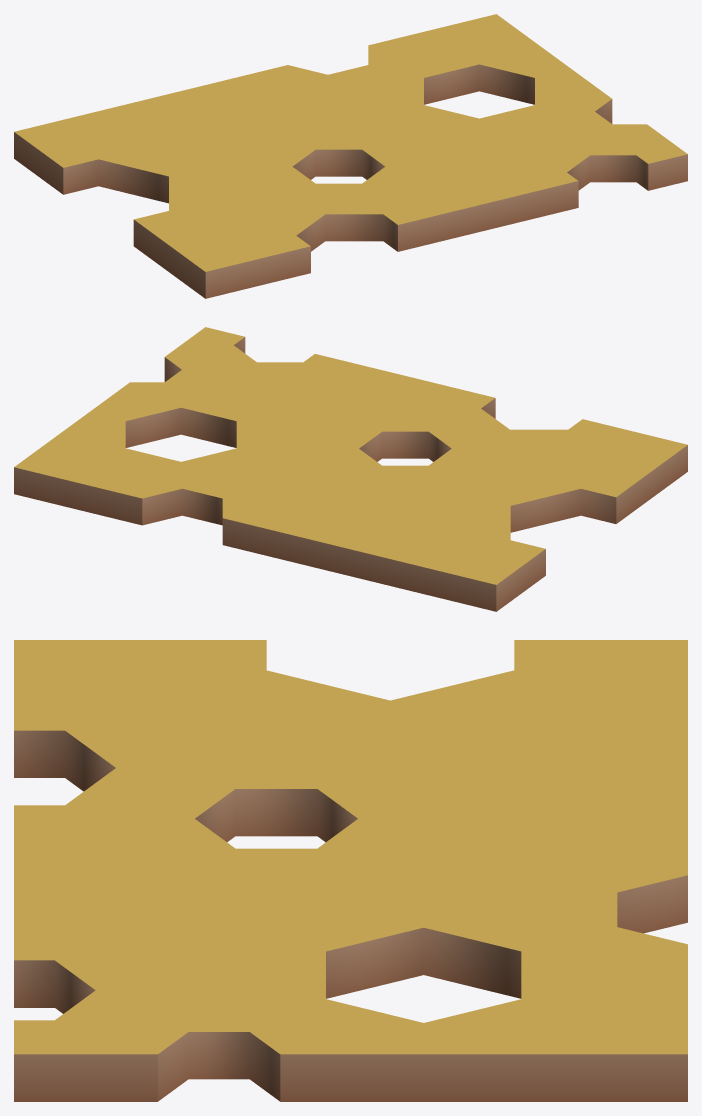
The model's file is cheese-cut.glb.
The picture shows the model from 3 angles, top to bottom: view 1: azimuth 30°, elevation 25°; view 2: azimuth 150°, elevation 25°; view 3: azimuth 270°, elevation 25°; orthographic projection. The views are drawn at different scales.
Parts seen in each view (by area): view 1: cheese-cut; view 2: cheese-cut; view 3: cheese-cut.
Boxes of the visible parts, x1,y1,x2,y2 form: cheese-cut: (14,14,687,298); cheese-cut: (14,327,687,611); cheese-cut: (14,640,687,1101).
Bounding box in the file's own units: 0.384 × 0.0205 × 0.264.
